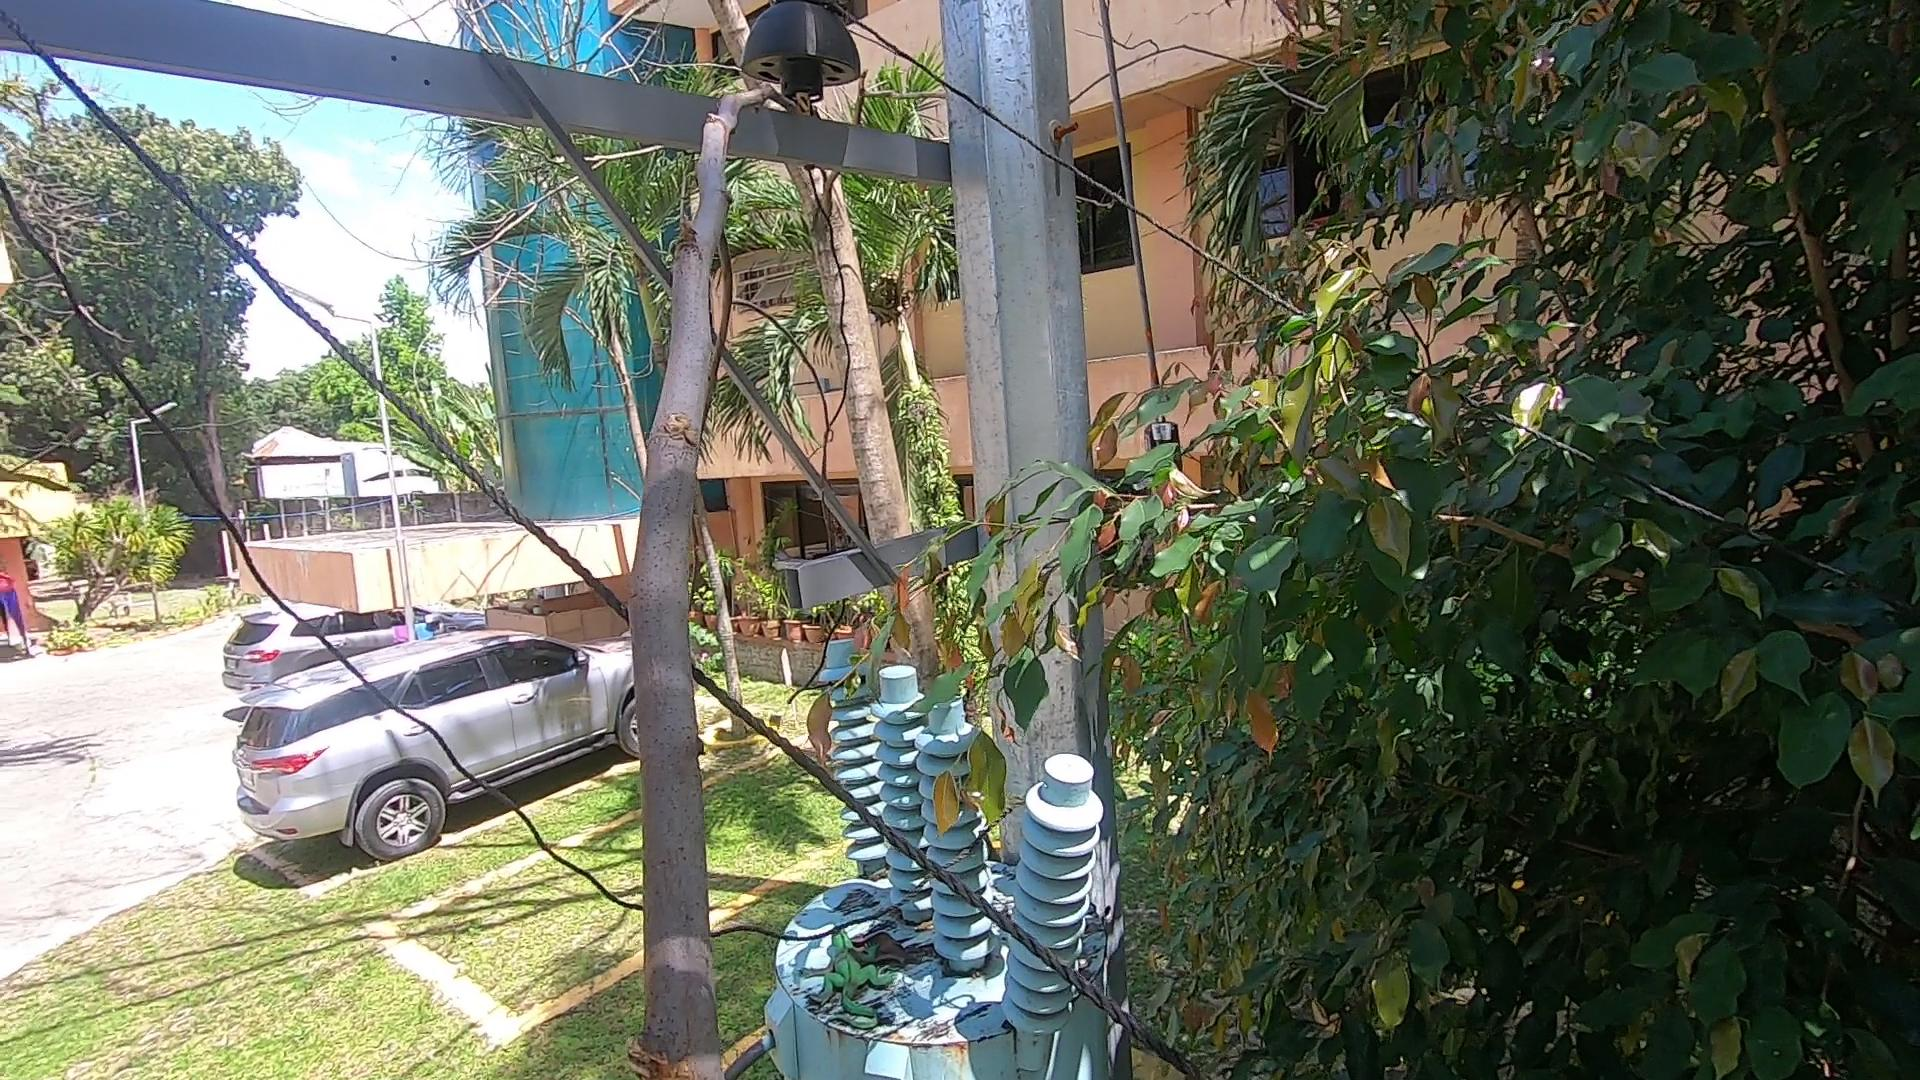branch with leaves: (793, 513, 1056, 841)
leaf: (833, 907, 928, 976), (858, 857, 897, 880)
tree branch: (591, 57, 800, 1080)
